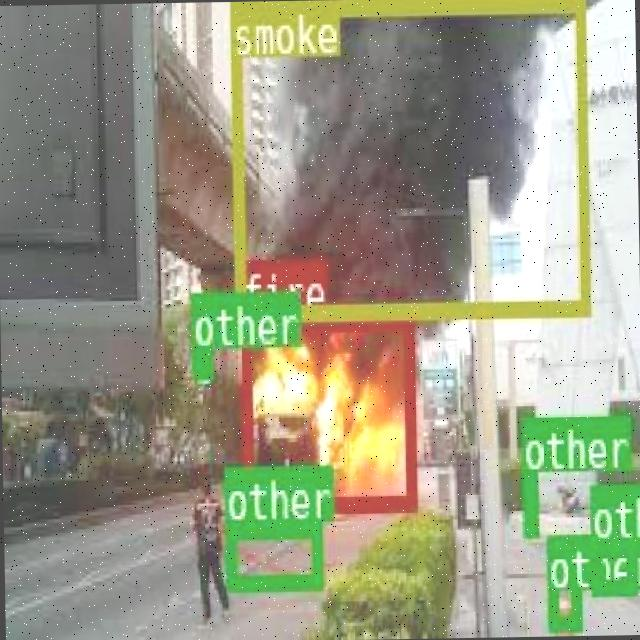fire: (239, 312, 413, 510)
smoke: (228, 0, 587, 316)
